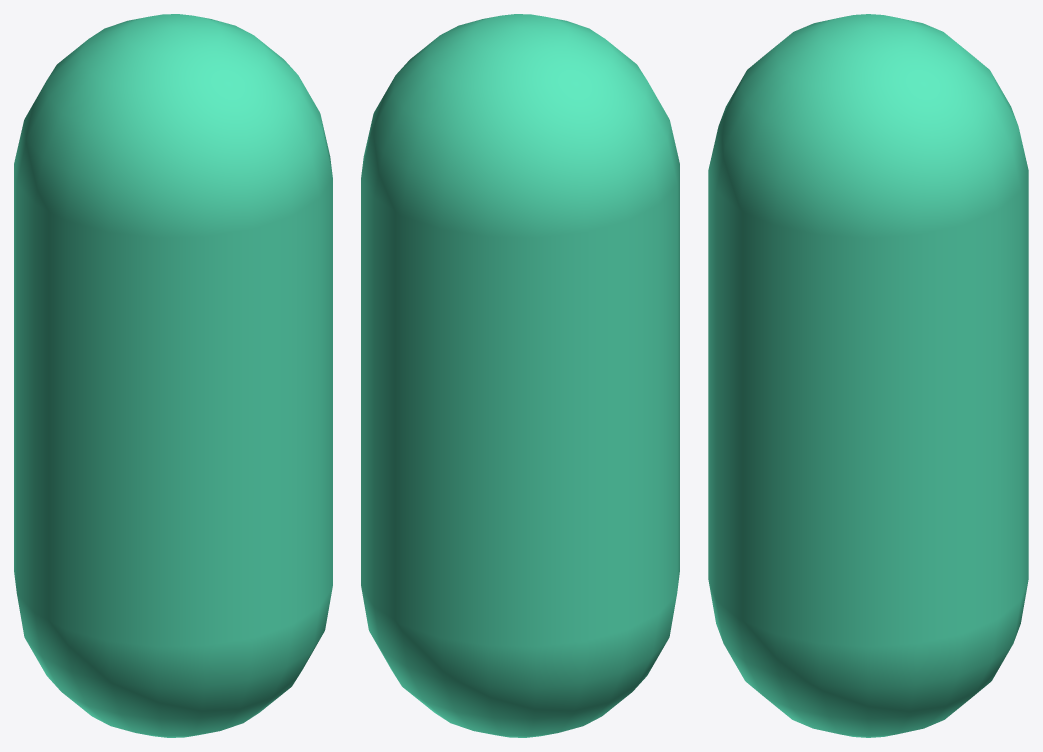
Rendered from GutSegment.gltf.
3 views of the same model, side by side, from view 1: azimuth 30°, elevation 25°; view 2: azimuth 150°, elevation 25°; view 3: azimuth 270°, elevation 25° (orthographic).
Parts seen in each view (by area): view 1: GutSegment; view 2: GutSegment; view 3: GutSegment.
Boxes of the visible parts, x1,y1,x2,y2 form: GutSegment: [14, 14, 332, 737]; GutSegment: [361, 14, 679, 737]; GutSegment: [708, 14, 1028, 737].
Size of the model in its own units: 0.032 by 0.0768 by 0.032.
